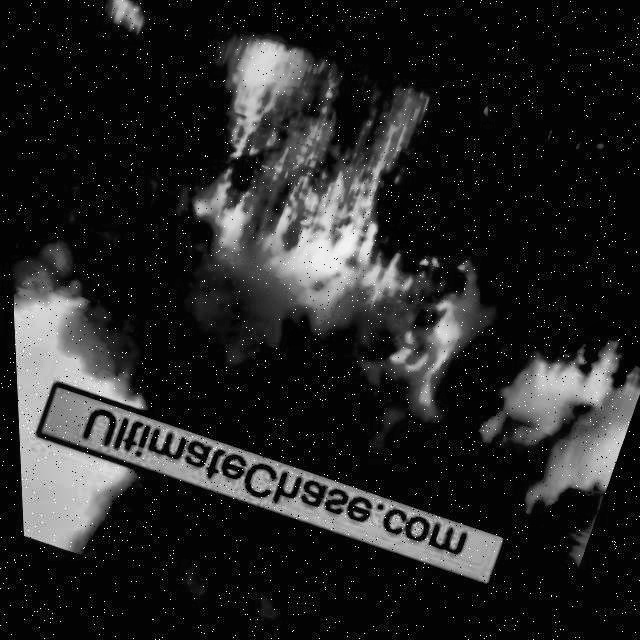Fire: (163, 21, 437, 317), (373, 267, 488, 437), (104, 0, 153, 40)
Smoke: (7, 185, 460, 524), (55, 437, 555, 638), (402, 312, 640, 563)
